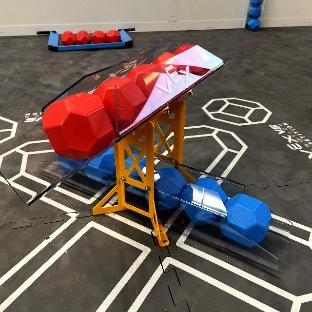V5_BLUE: (220, 194, 271, 241), (181, 177, 227, 220), (154, 168, 186, 210)
V5_RED: (43, 86, 115, 158), (94, 66, 150, 135), (61, 31, 75, 44)
